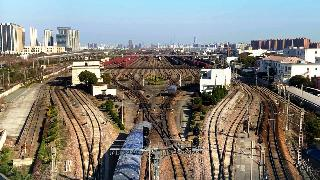train: (112, 120, 153, 180), (167, 85, 177, 96)
